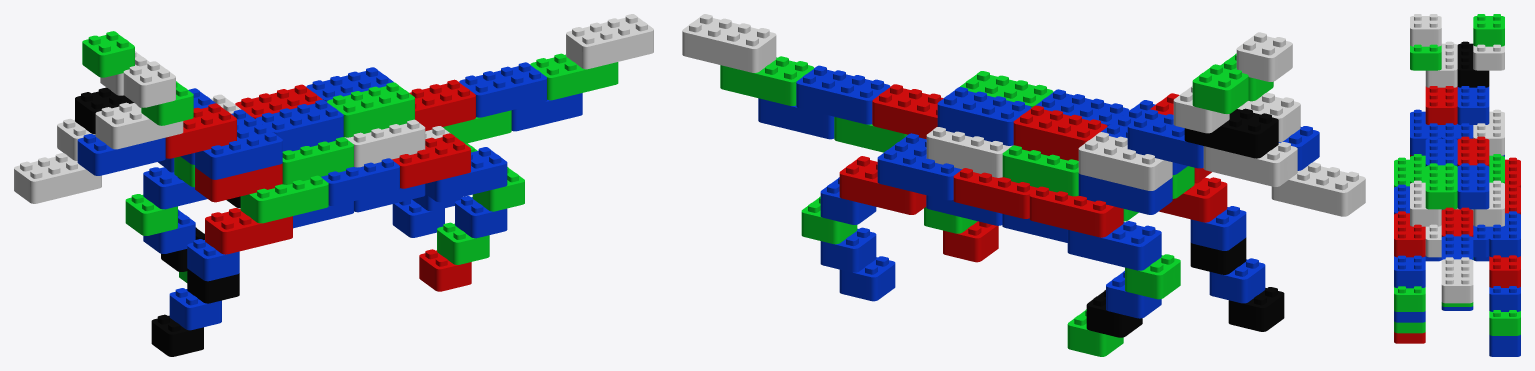
The model's file is ZUGO-Full-Dog.fbx.
3 views of the same model, side by side, from view 1: azimuth 30°, elevation 25°; view 2: azimuth 150°, elevation 25°; view 3: azimuth 270°, elevation 25° (orthographic). The views are drawn at different scales.
Visible parts, largest first — view 1: group2; view 2: group2; view 3: group2.
Part boxes in pixels (left/top/right/bottom): group2: left=14, top=14, right=653, bottom=356; group2: left=682, top=14, right=1365, bottom=356; group2: left=1394, top=14, right=1520, bottom=356.
Bounding box in the file's own units: 28 × 11.72 × 6.4.
